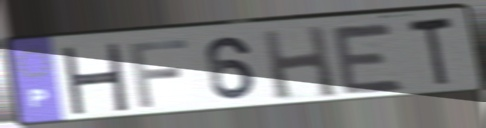6: (203, 34, 260, 103)
E: (327, 21, 408, 97)
F: (126, 37, 192, 110)
H: (258, 22, 341, 102), (58, 43, 131, 115)
T: (405, 13, 458, 91)
